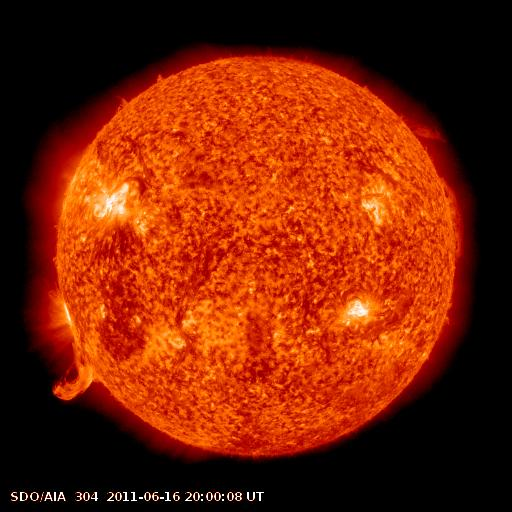prominence: (41, 351, 108, 411), (437, 175, 474, 260), (406, 110, 453, 150), (108, 89, 139, 117)
